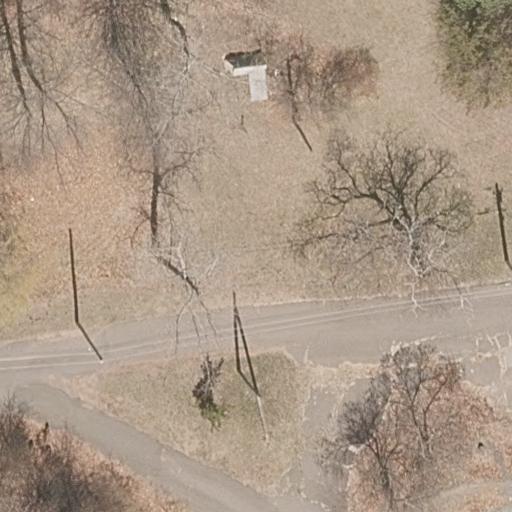DT: (71, 320, 106, 364)
